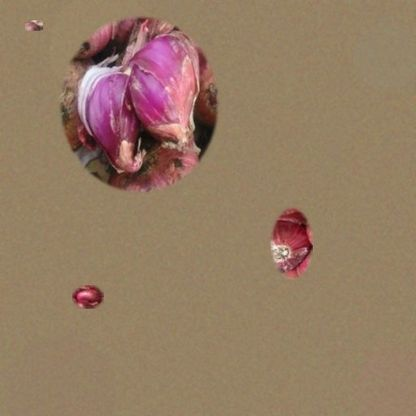damaged: (55, 11, 223, 197)
healthy: (271, 206, 313, 280), (72, 285, 104, 309)
sprouted: (25, 20, 43, 31)
